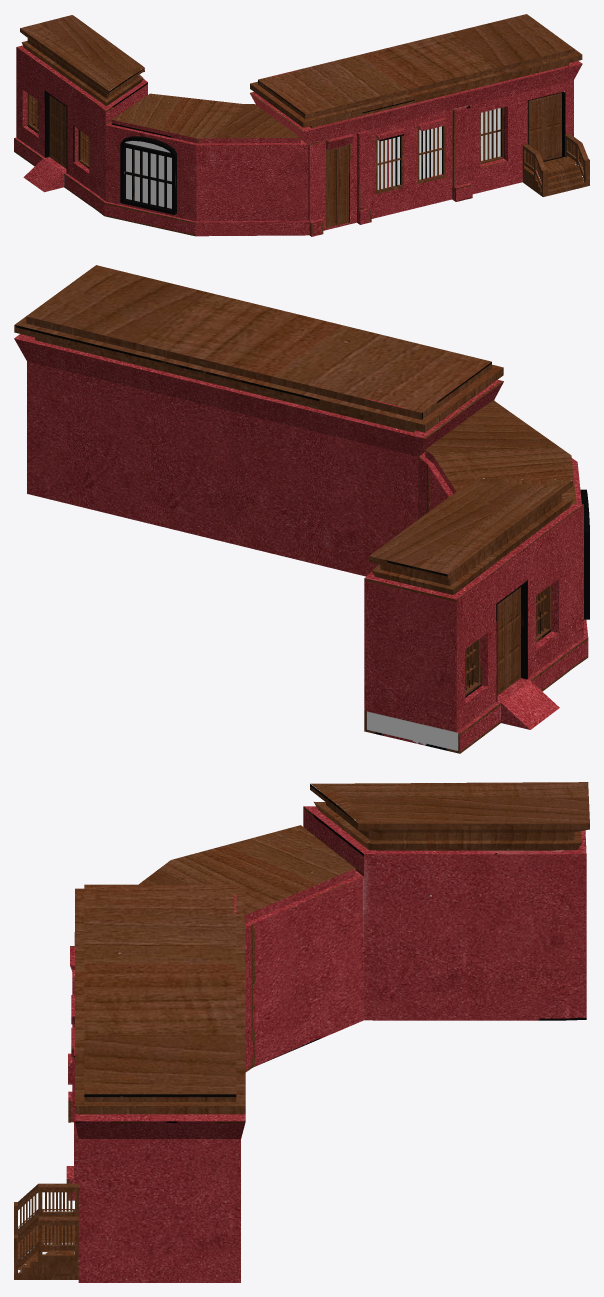
Rendered from EdficioEsquina.fbx.
3 renders of one model, top to bottom at view 1: azimuth 30°, elevation 25°; view 2: azimuth 150°, elevation 25°; view 3: azimuth 270°, elevation 25°, orthographic. The views are drawn at different scales.
Parts seen in each view (by area): view 1: building_008; view 2: building_008; view 3: building_008.
Boxes of the visible parts, x1=… form: building_008: x1=14, y1=14, x2=589, y2=236; building_008: x1=14, y1=265, x2=589, y2=753; building_008: x1=14, y1=782, x2=589, y2=1282.
Bounding box in the file's own units: 1945 × 526 × 1418.
